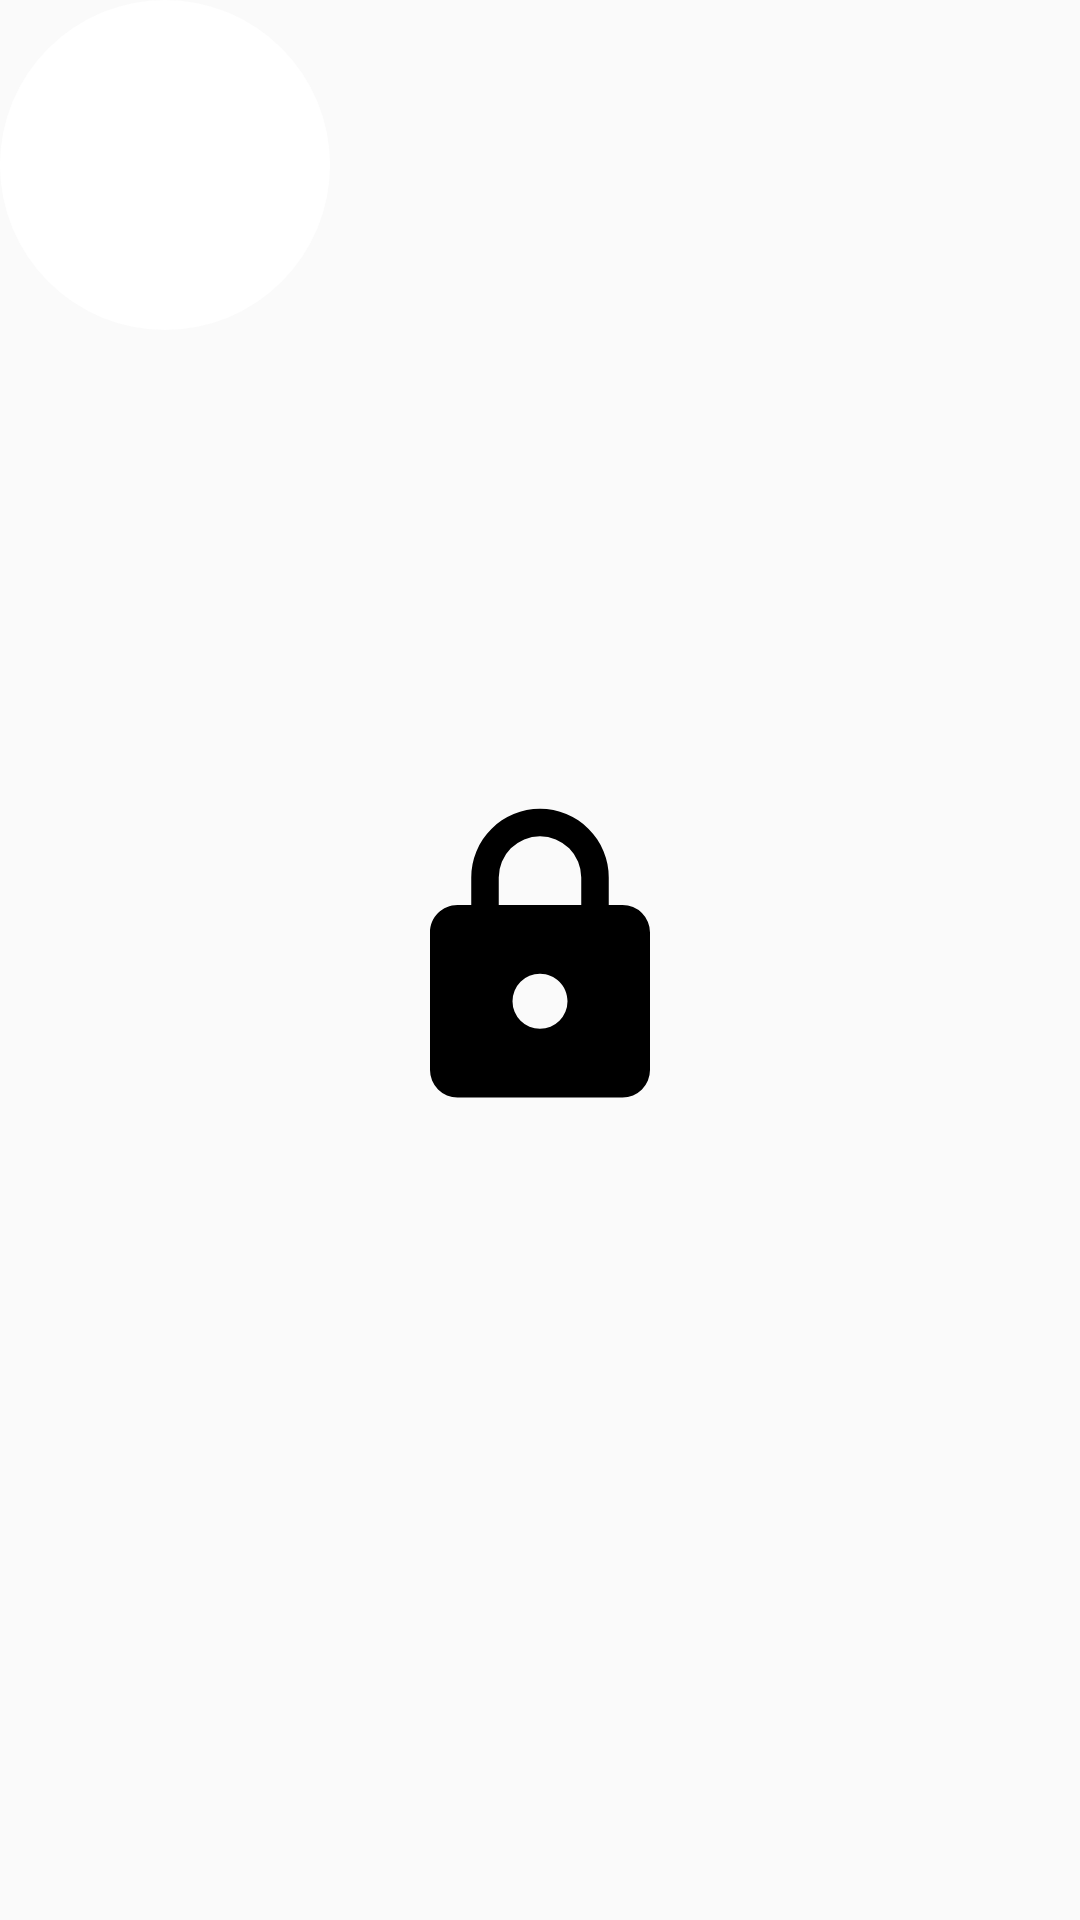

Point at icon controls on the screen. Image size 1080px x 1920px, points as point (x, y).
lock: point (540, 953)
